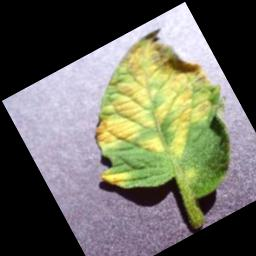Leaf_Mold: (61, 15, 242, 190), (99, 159, 137, 196)
